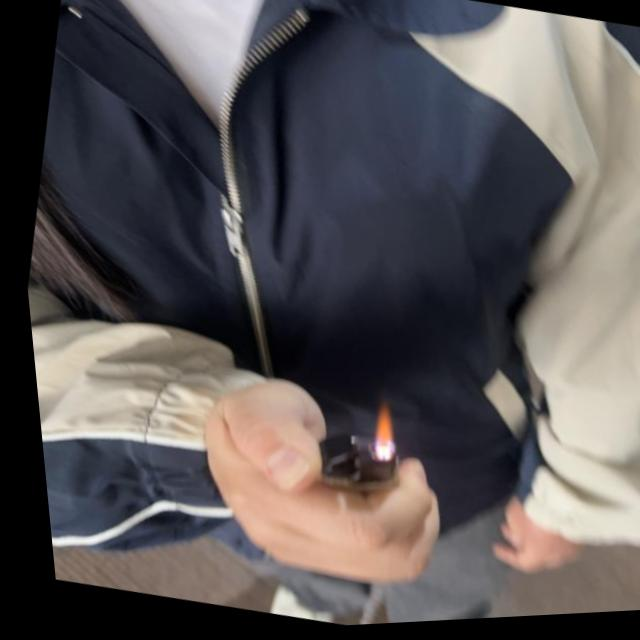Fire: (358, 407, 398, 456)
